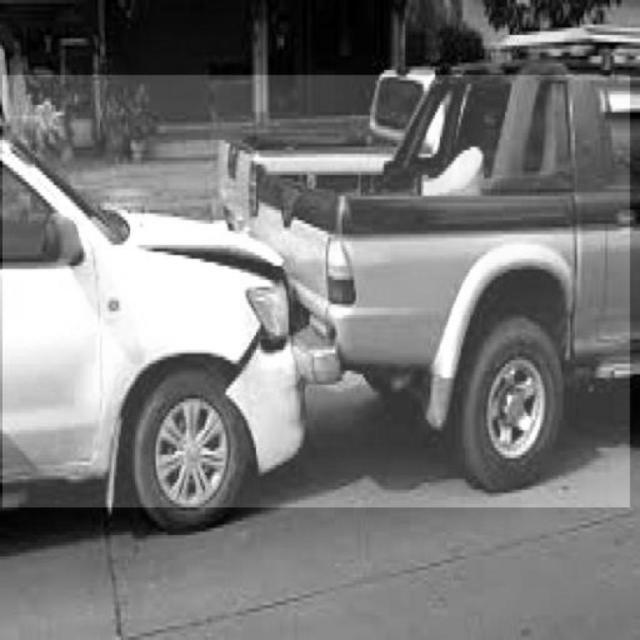accident: (3, 75, 630, 507)
